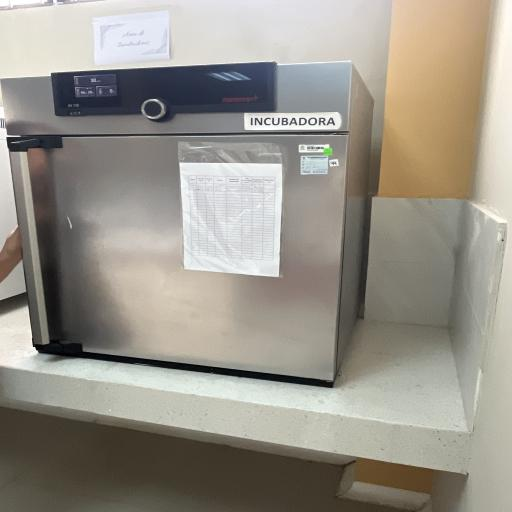Incubadora: (1, 57, 395, 396)
